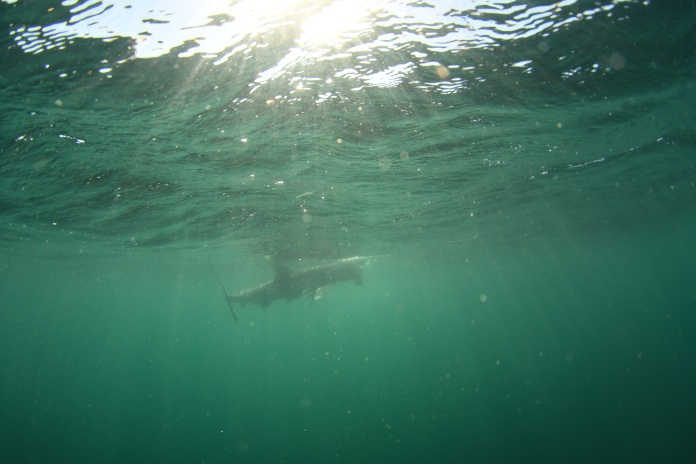Mako: (194, 248, 378, 333)
